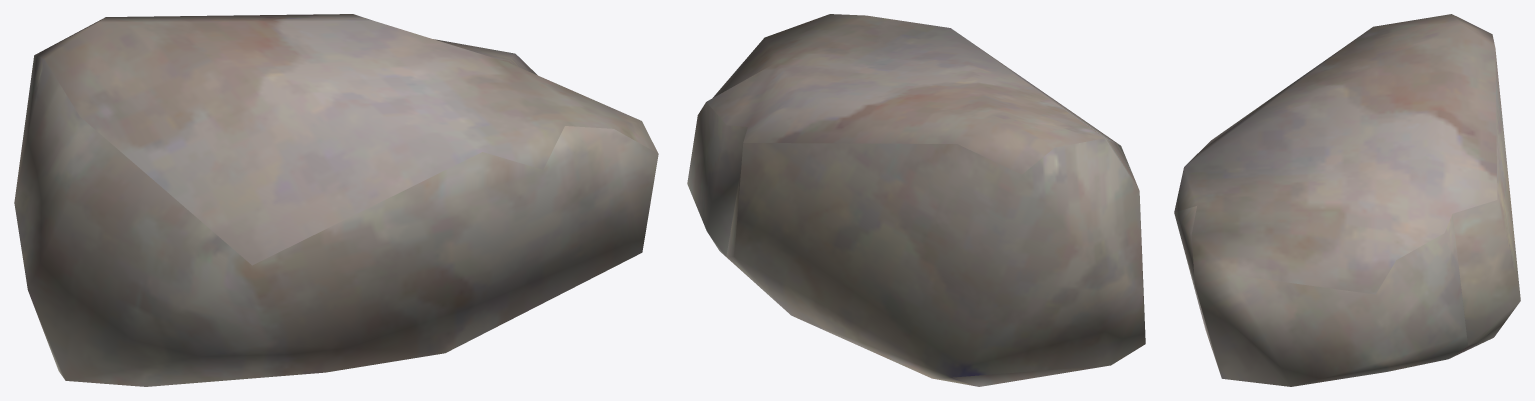
Rendered from Homeworld_Exterior_Common_Stone_Stone_12_Vo.fbx.
3 renders of one model, left to right at view 1: azimuth 30°, elevation 25°; view 2: azimuth 150°, elevation 25°; view 3: azimuth 270°, elevation 25°, orthographic. The views are drawn at different scales.
Parts seen in each view (by area): view 1: Area_Ly_Rock_HZ_Ground_S_01_Vo; view 2: Area_Ly_Rock_HZ_Ground_S_01_Vo; view 3: Area_Ly_Rock_HZ_Ground_S_01_Vo.
Boxes of the visible parts, x1,y1,x2,y2 form: Area_Ly_Rock_HZ_Ground_S_01_Vo: [14, 14, 658, 386]; Area_Ly_Rock_HZ_Ground_S_01_Vo: [687, 14, 1145, 386]; Area_Ly_Rock_HZ_Ground_S_01_Vo: [1174, 14, 1520, 386].
Bounding box in the file's own units: 2.29 × 1.28 × 1.54.
Materials: 1 (1 with a texture image).
